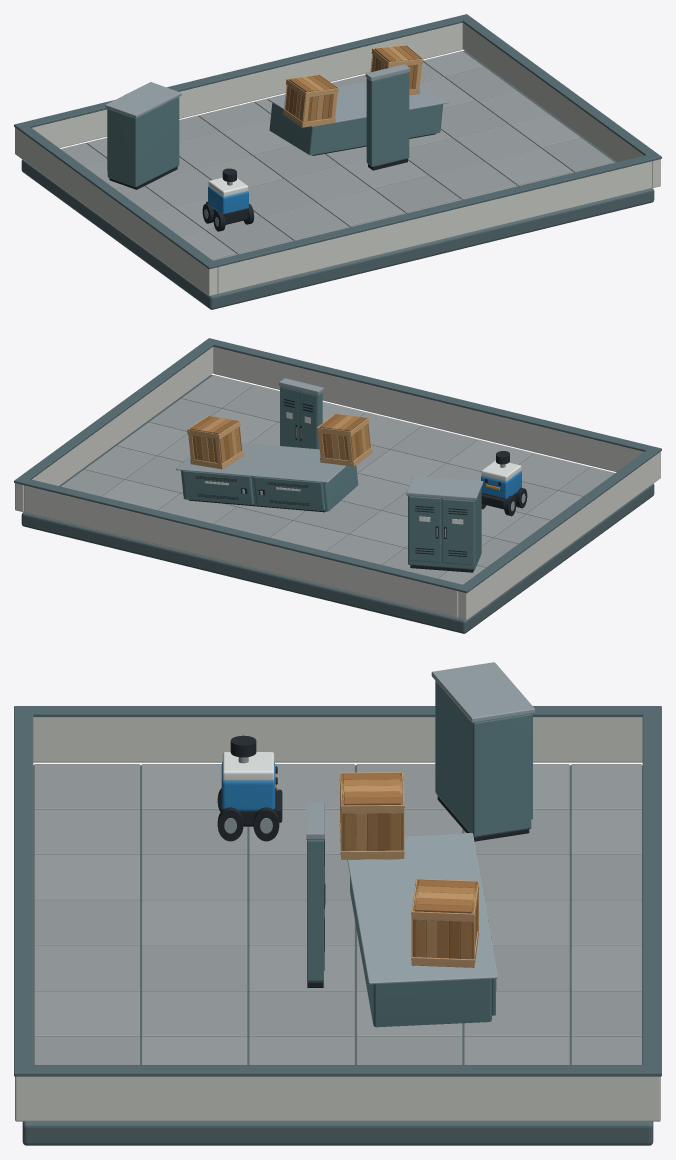
The picture shows the model from 3 angles, top to bottom: view 1: azimuth 30°, elevation 25°; view 2: azimuth 150°, elevation 25°; view 3: azimuth 270°, elevation 25°; orthographic projection. The views are drawn at different scales.
Parts seen in each view (by area): view 1: Cutaway wall.002, Floor foundation, Cutaway wall.003, storage, Cutaway wall, mount, Cutaway wall.001, screen, Wall coping.002, Wall coping.003, box_0, Wall coping (+34 smaller); view 2: Cutaway wall.003, Cutaway wall.002, Floor foundation, mount, storage, Cutaway wall, Cutaway wall.001, Wall coping.003, Wall coping.002, screen, box_1, box_0 (+35 smaller); view 3: Cutaway wall.001, Cutaway wall, Floor foundation, mount, storage, Wall coping.001, Wall coping.002, Wall coping.003, Wall coping, box_1, box_0, rover (+40 smaller).
Boxes of the visible parts, <box> form: Cutaway wall.002: <box>217,161,651,293</box>; Floor foundation: <box>21,51,654,309</box>; Cutaway wall.003: <box>32,23,462,147</box>; storage: <box>105,82,181,189</box>; Cutaway wall: <box>15,127,217,296</box>; mount: <box>267,81,448,155</box>; Cutaway wall.001: <box>462,23,660,187</box>; screen: <box>365,64,410,170</box>; Wall coping.002: <box>213,155,652,266</box>; Wall coping.003: <box>24,16,462,127</box>; box_0: <box>283,74,338,127</box>; Wall coping: <box>14,122,218,269</box>; Cutaway wall.003: <box>24,485,458,617</box>; Cutaway wall.002: <box>213,347,643,471</box>; Floor foundation: <box>21,375,654,633</box>; mount: <box>176,442,358,512</box>; storage: <box>406,476,483,572</box>; Cutaway wall: <box>458,451,660,620</box>; Cutaway wall.001: <box>15,347,213,511</box>; Wall coping.003: <box>23,479,462,590</box>; Wall coping.002: <box>213,340,651,451</box>; screen: <box>279,378,323,449</box>; box_1: <box>187,415,243,469</box>; box_0: <box>317,413,372,466</box>; Cutaway wall.001: <box>15,1076,660,1121</box>; Cutaway wall: <box>33,717,642,762</box>; Floor foundation: <box>22,765,653,1145</box>; mount: <box>347,833,497,1027</box>; storage: <box>431,662,534,841</box>; Wall coping.001: <box>14,1065,661,1076</box>; Wall coping.002: <box>14,713,33,1065</box>; Wall coping.003: <box>642,713,661,1065</box>; Wall coping: <box>14,706,661,717</box>; box_1: <box>411,878,479,967</box>; box_0: <box>339,772,404,859</box>; rover: <box>217,735,282,841</box>.
Bounding box in the file's own units: 8.09 × 1.89 × 6.03.
